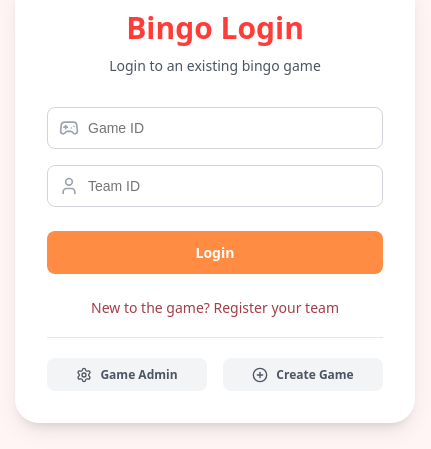
Test: Auth › switches to register view
The width and height of the screenshot is (431, 449).
Click the button "New to the game? Register your team". click: coordinates (215, 308)
box: [91,298,339,317]
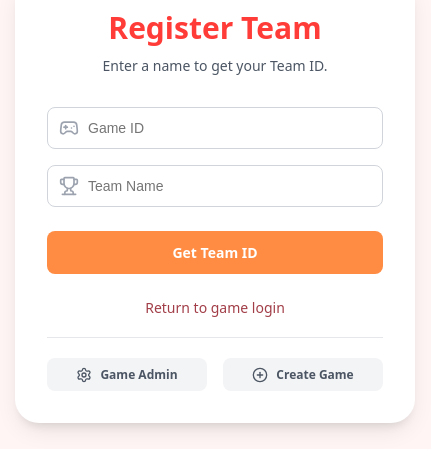
expect the field with placeholder "Team Name" is shown: met, box [47,165,383,207]
expect the button "Return to game login" is shown: met, box [145,298,285,317]
